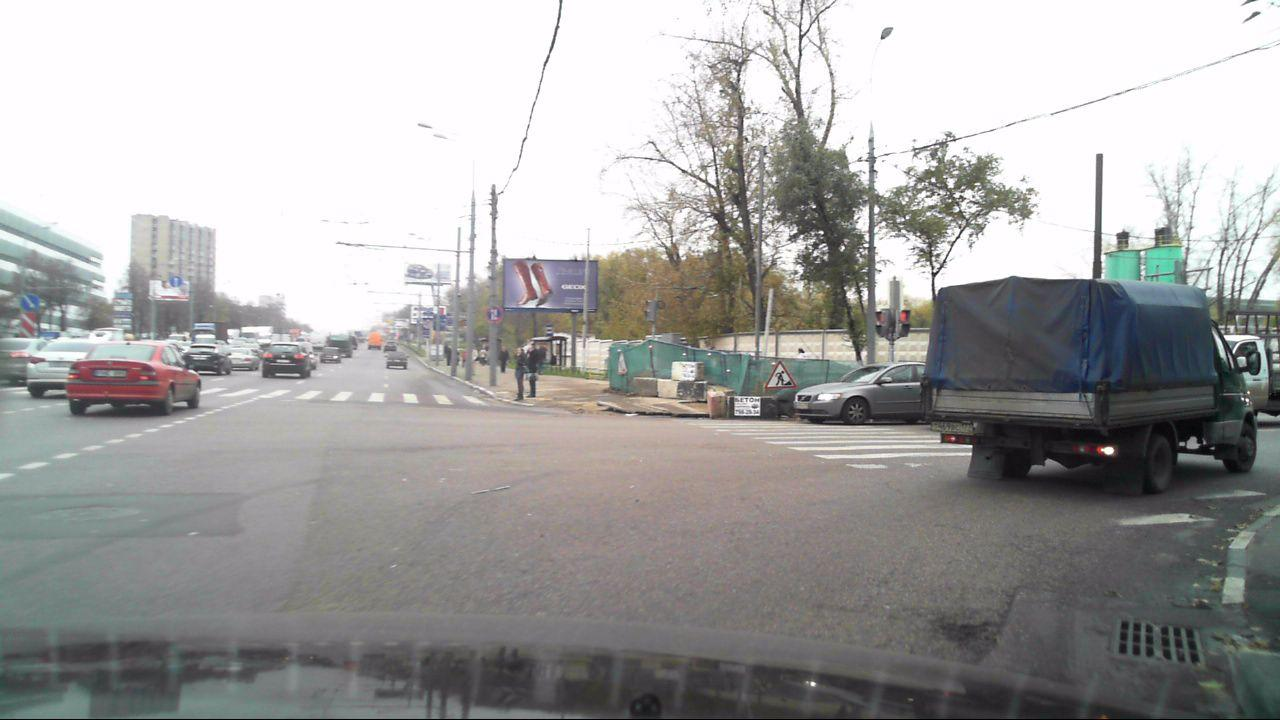off traffic light: (873, 310, 889, 338)
road_sign: (764, 360, 799, 390), (19, 313, 34, 338), (20, 293, 40, 311), (169, 276, 182, 288)
traffic light: (896, 309, 912, 338)
